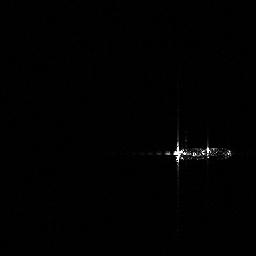ship: (163, 139, 236, 168)
